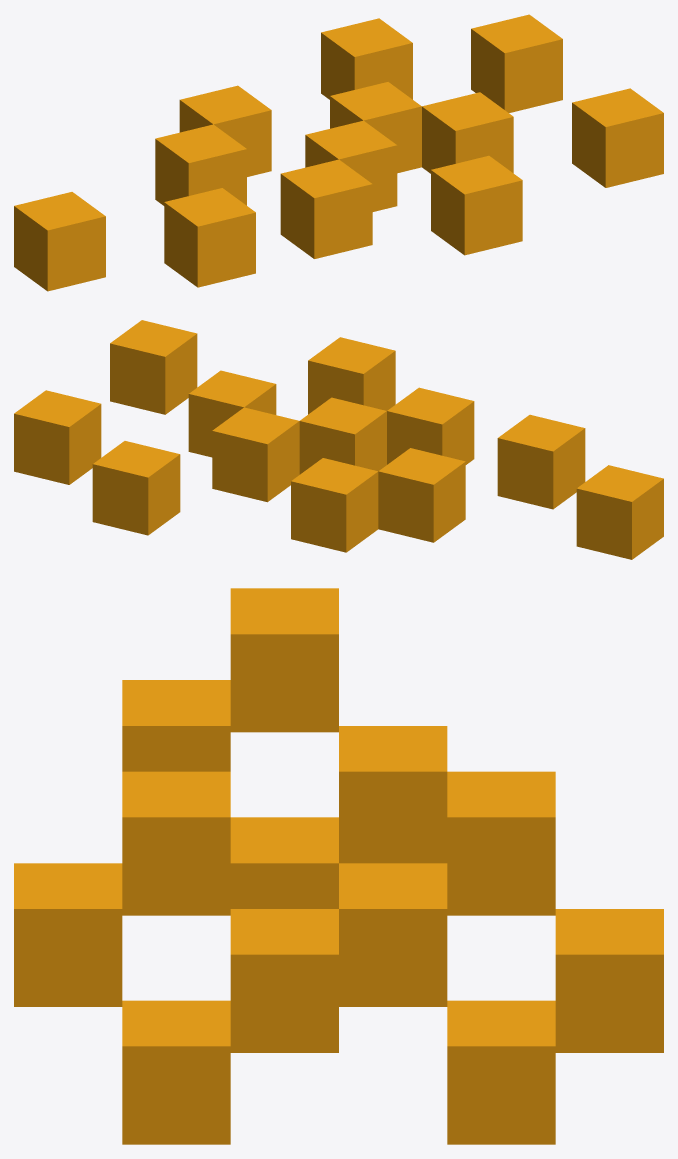
File: inv_pineapple_chunks.obj
3 renders of one model, top to bottom at view 1: azimuth 30°, elevation 25°; view 2: azimuth 150°, elevation 25°; view 3: azimuth 270°, elevation 25°, orthographic. The views are drawn at different scales.
Size of the model in its own units: 0.3125 by 0.0312 by 0.1875.
